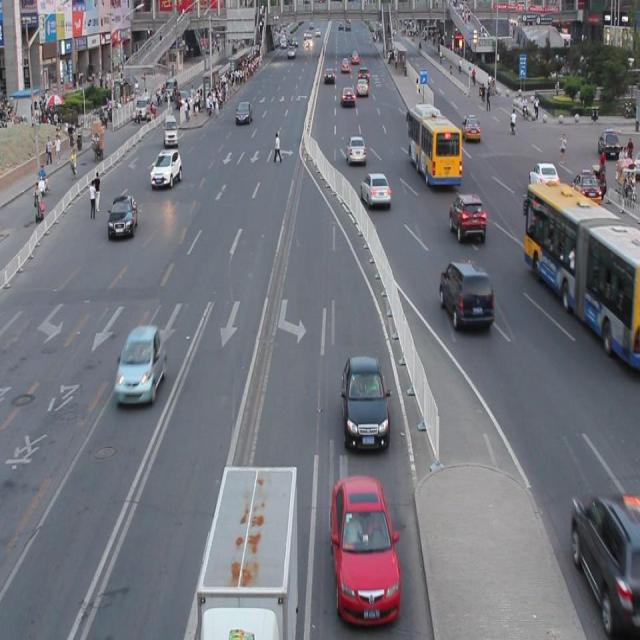bus: (196, 463, 298, 640)
car: (331, 473, 400, 624), (568, 491, 640, 629), (341, 353, 389, 453), (114, 323, 168, 405), (438, 258, 493, 331), (448, 193, 484, 241), (107, 194, 138, 239), (150, 147, 182, 187), (360, 171, 390, 207), (527, 160, 559, 193), (570, 169, 600, 204)
van: (524, 182, 640, 366), (408, 107, 462, 185)
